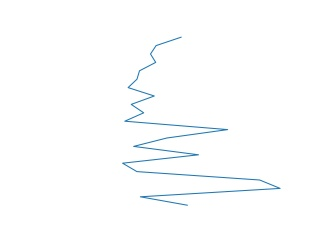crevasseRiverBedLagDeposit: (117, 33, 284, 211)
